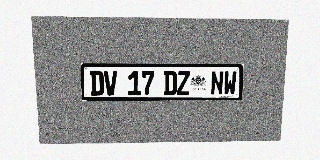1: (128, 71, 141, 95)
7: (141, 71, 154, 95)
D: (90, 71, 104, 96), (164, 71, 177, 95)
N: (210, 71, 224, 95)
V: (104, 71, 118, 95)
W: (223, 71, 237, 95)
Z: (177, 71, 190, 95)
